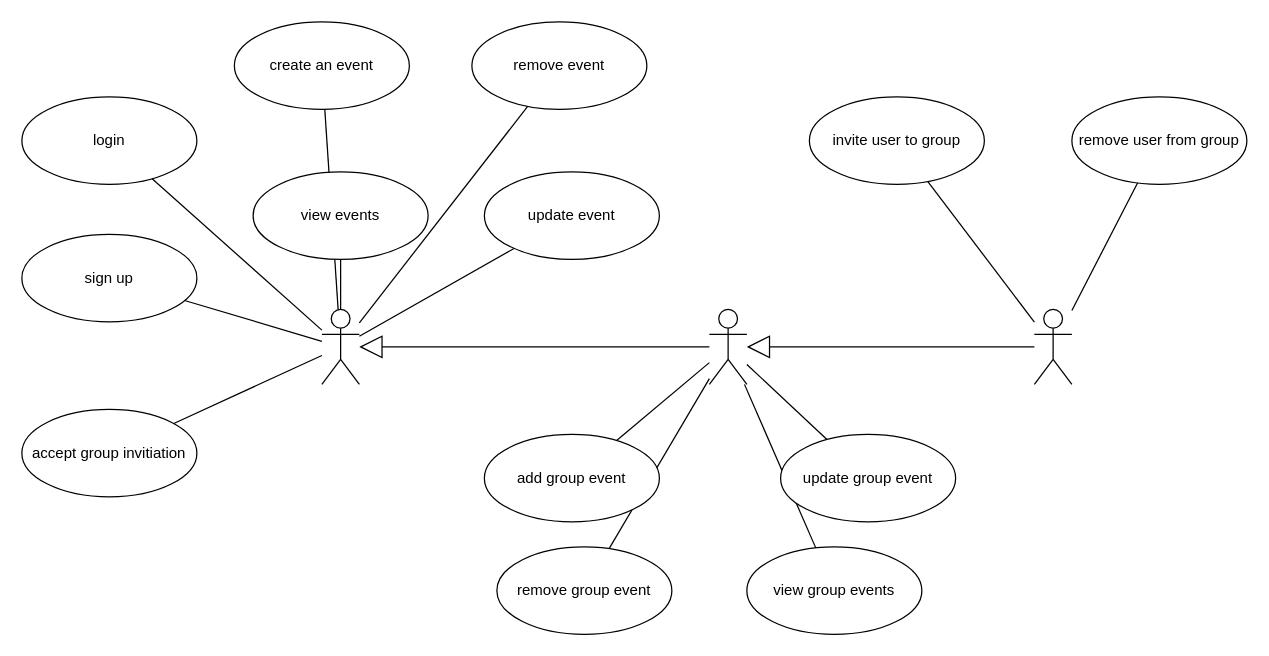
This 1269x656 diagram has some shape labels left out. The shapes that lost their labels are listed below. From the top down, each one's centre as x and y in pixels, then its label:
At [340,346]: "User".
At [727,346]: "Editor".
At [1052,346]: "Admin".
